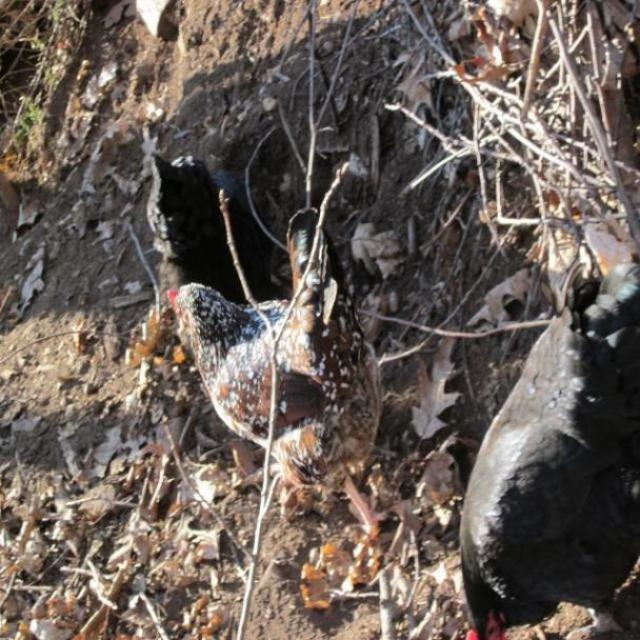Chicken: (450, 260, 640, 640), (160, 209, 382, 470)
